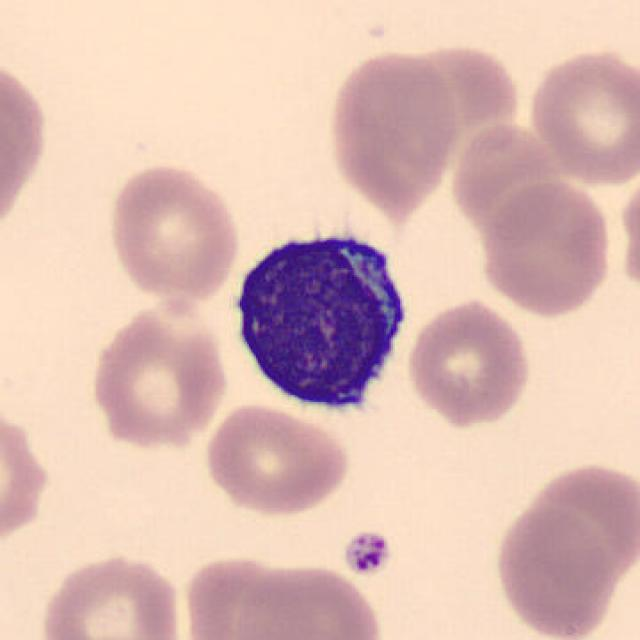Lymphocyte: (222, 215, 416, 427)
Platelets: (340, 527, 394, 580)
RBC: (324, 46, 462, 213), (85, 296, 231, 453), (103, 159, 244, 305), (475, 175, 615, 319), (507, 455, 638, 599), (199, 401, 354, 518), (491, 502, 622, 640), (404, 294, 535, 430), (523, 44, 638, 187), (35, 550, 188, 640), (227, 560, 387, 640), (178, 550, 311, 640), (0, 49, 53, 241), (615, 166, 640, 302)
